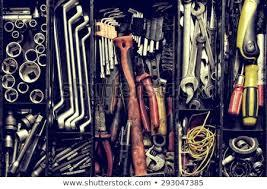wrench: (51, 0, 92, 133), (95, 15, 121, 79), (127, 6, 143, 45)
